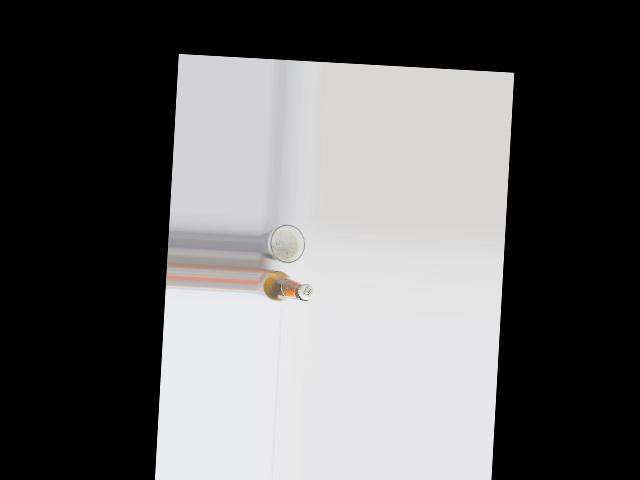beer: (255, 268, 314, 302)
